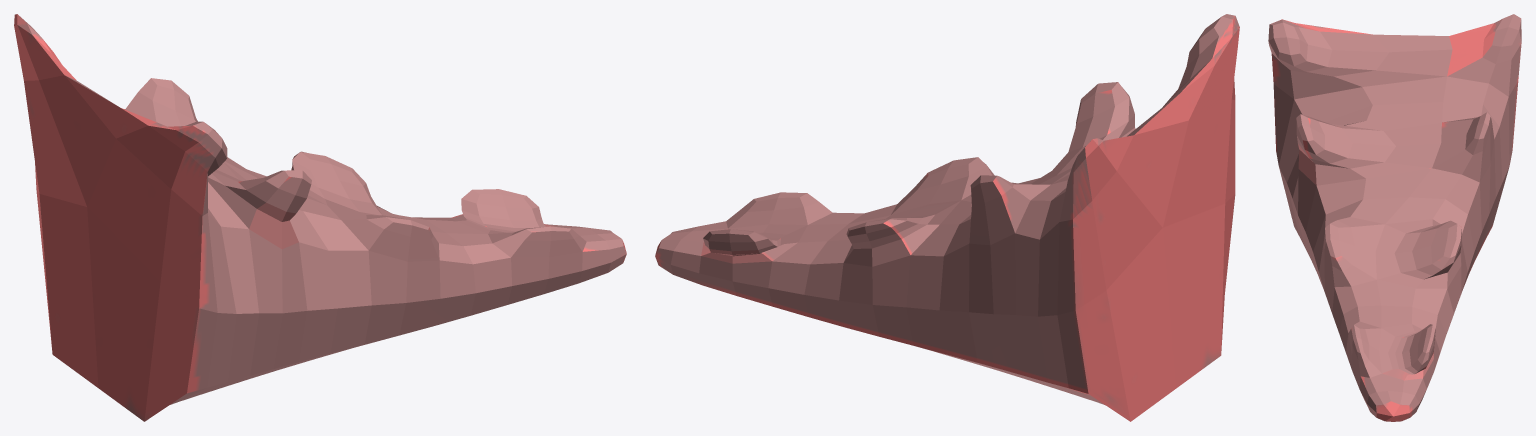
Rendered from Uncooked Alligator Meat.fbx.
3 views of the same model, side by side, from view 1: azimuth 30°, elevation 25°; view 2: azimuth 150°, elevation 25°; view 3: azimuth 270°, elevation 25° (orthographic). The views are drawn at different scales.
Parts seen in each view (by area): view 1: Unccooked Alligator Meat; view 2: Unccooked Alligator Meat; view 3: Unccooked Alligator Meat.
Part boxes in pixels (bbox=[...]): Unccooked Alligator Meat: bbox=[14, 14, 626, 421]; Unccooked Alligator Meat: bbox=[655, 14, 1239, 421]; Unccooked Alligator Meat: bbox=[1268, 14, 1521, 421].
Size of the model in its own units: 1.75 by 1 by 1.
